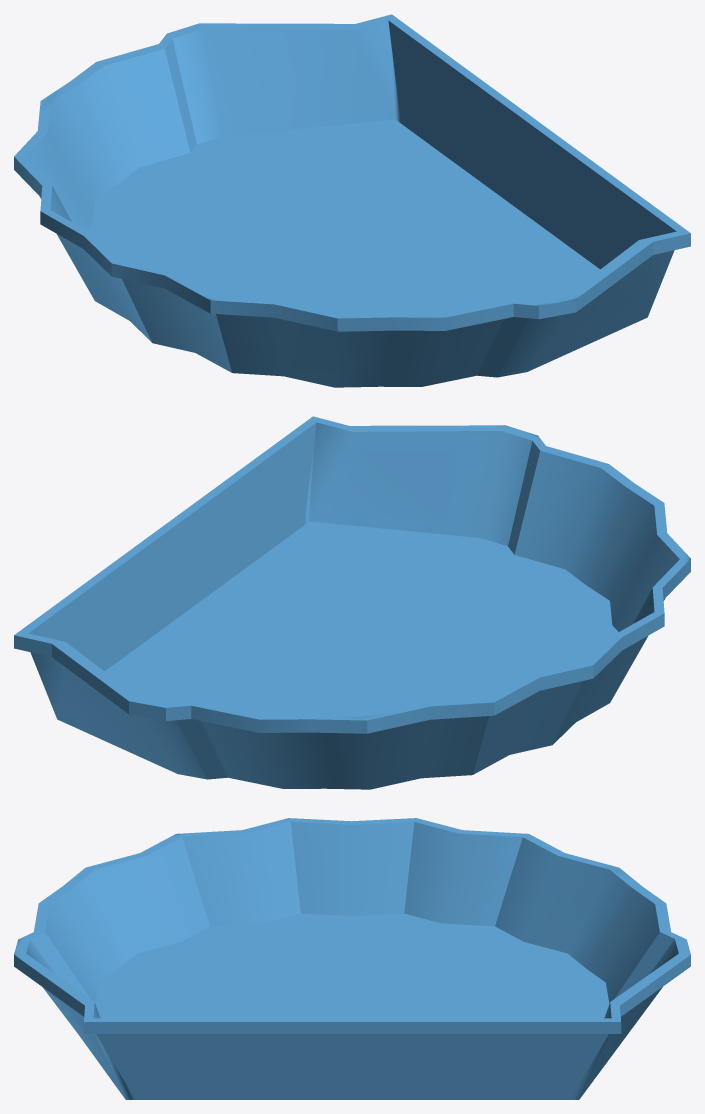
The model's file is ShellPool_001_Outside_001_Obstacle.fbx.
3 renders of one model, top to bottom at view 1: azimuth 30°, elevation 25°; view 2: azimuth 150°, elevation 25°; view 3: azimuth 270°, elevation 25°, orthographic. The views are drawn at different scales.
Visible parts, largest first — view 1: ShellPool_001_Outside_001_Obstacle; view 2: ShellPool_001_Outside_001_Obstacle; view 3: ShellPool_001_Outside_001_Obstacle.
Boxes of the visible parts, box(x1,y1,x2,y2) form: ShellPool_001_Outside_001_Obstacle: box(14, 14, 690, 387); ShellPool_001_Outside_001_Obstacle: box(14, 416, 690, 789); ShellPool_001_Outside_001_Obstacle: box(14, 818, 690, 1099).
Bounding box in the file's own units: 92.19 × 18.26 × 129.
